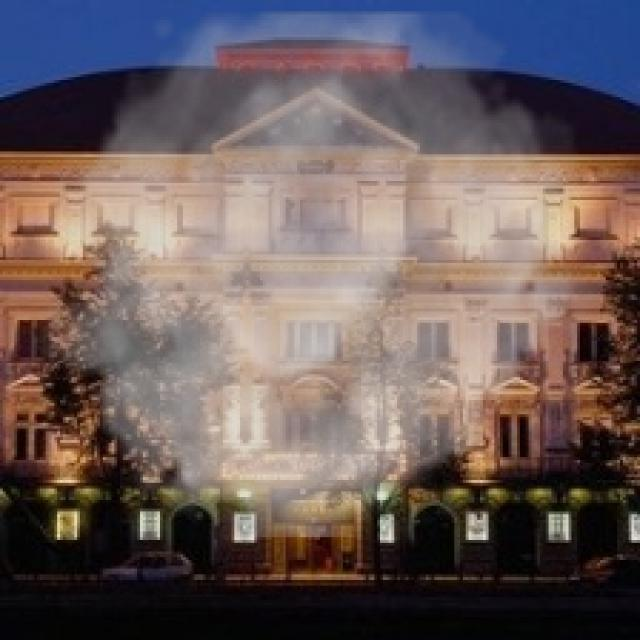smoke: (34, 12, 600, 537)
